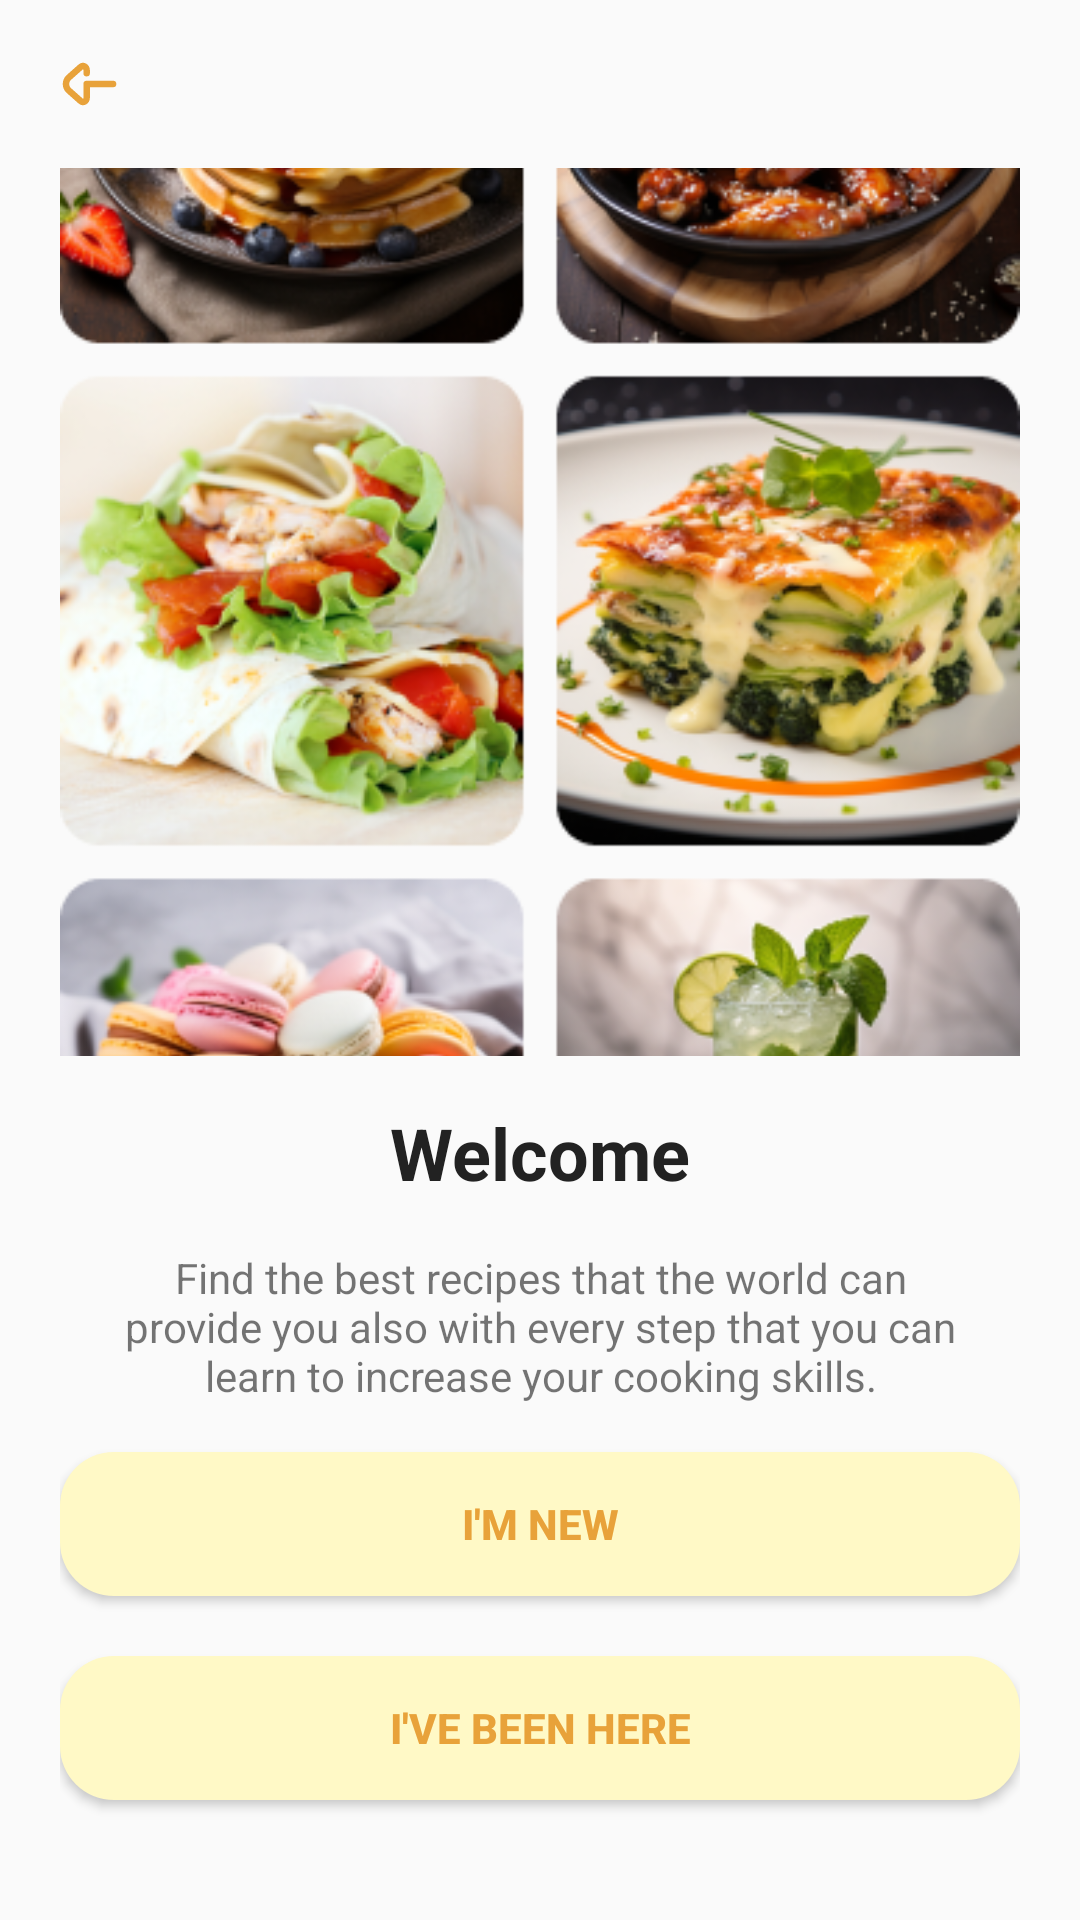

Screen size 1080*1920. Icon name, then its box in pixels as (x1, y1, x2, y2):
arrow: (62, 62, 117, 106)
